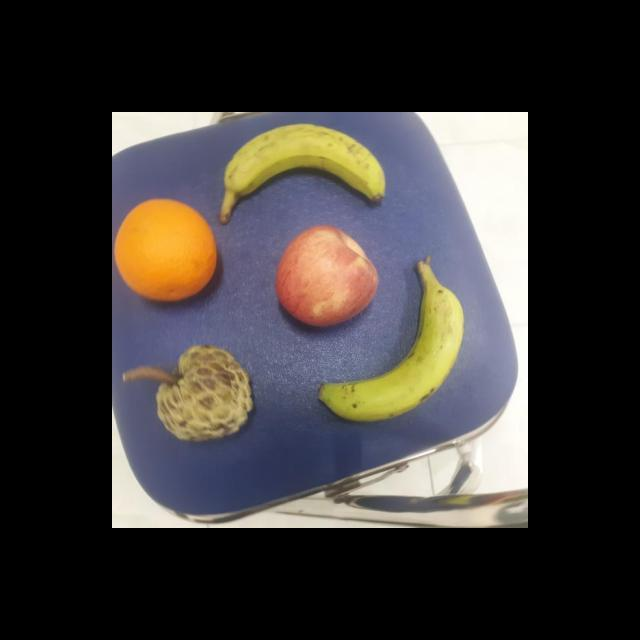Sakya fruit: (154, 342, 254, 449)
apple: (272, 224, 379, 330)
banana: (320, 261, 467, 422), (220, 121, 388, 223)
orange: (114, 196, 218, 306)
